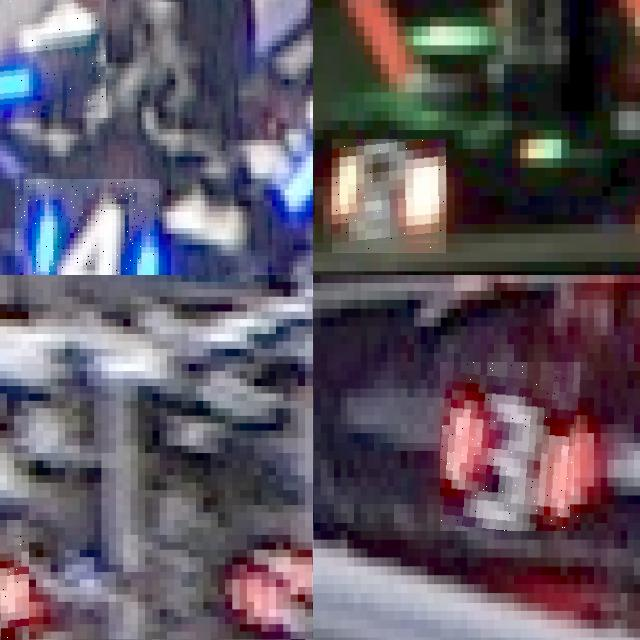B4: (15, 178, 158, 275), (0, 0, 105, 118)
R3: (440, 362, 580, 531)
Rs: (332, 139, 446, 253)
